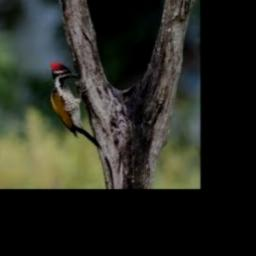Woodpecker: (51, 63, 102, 148)
